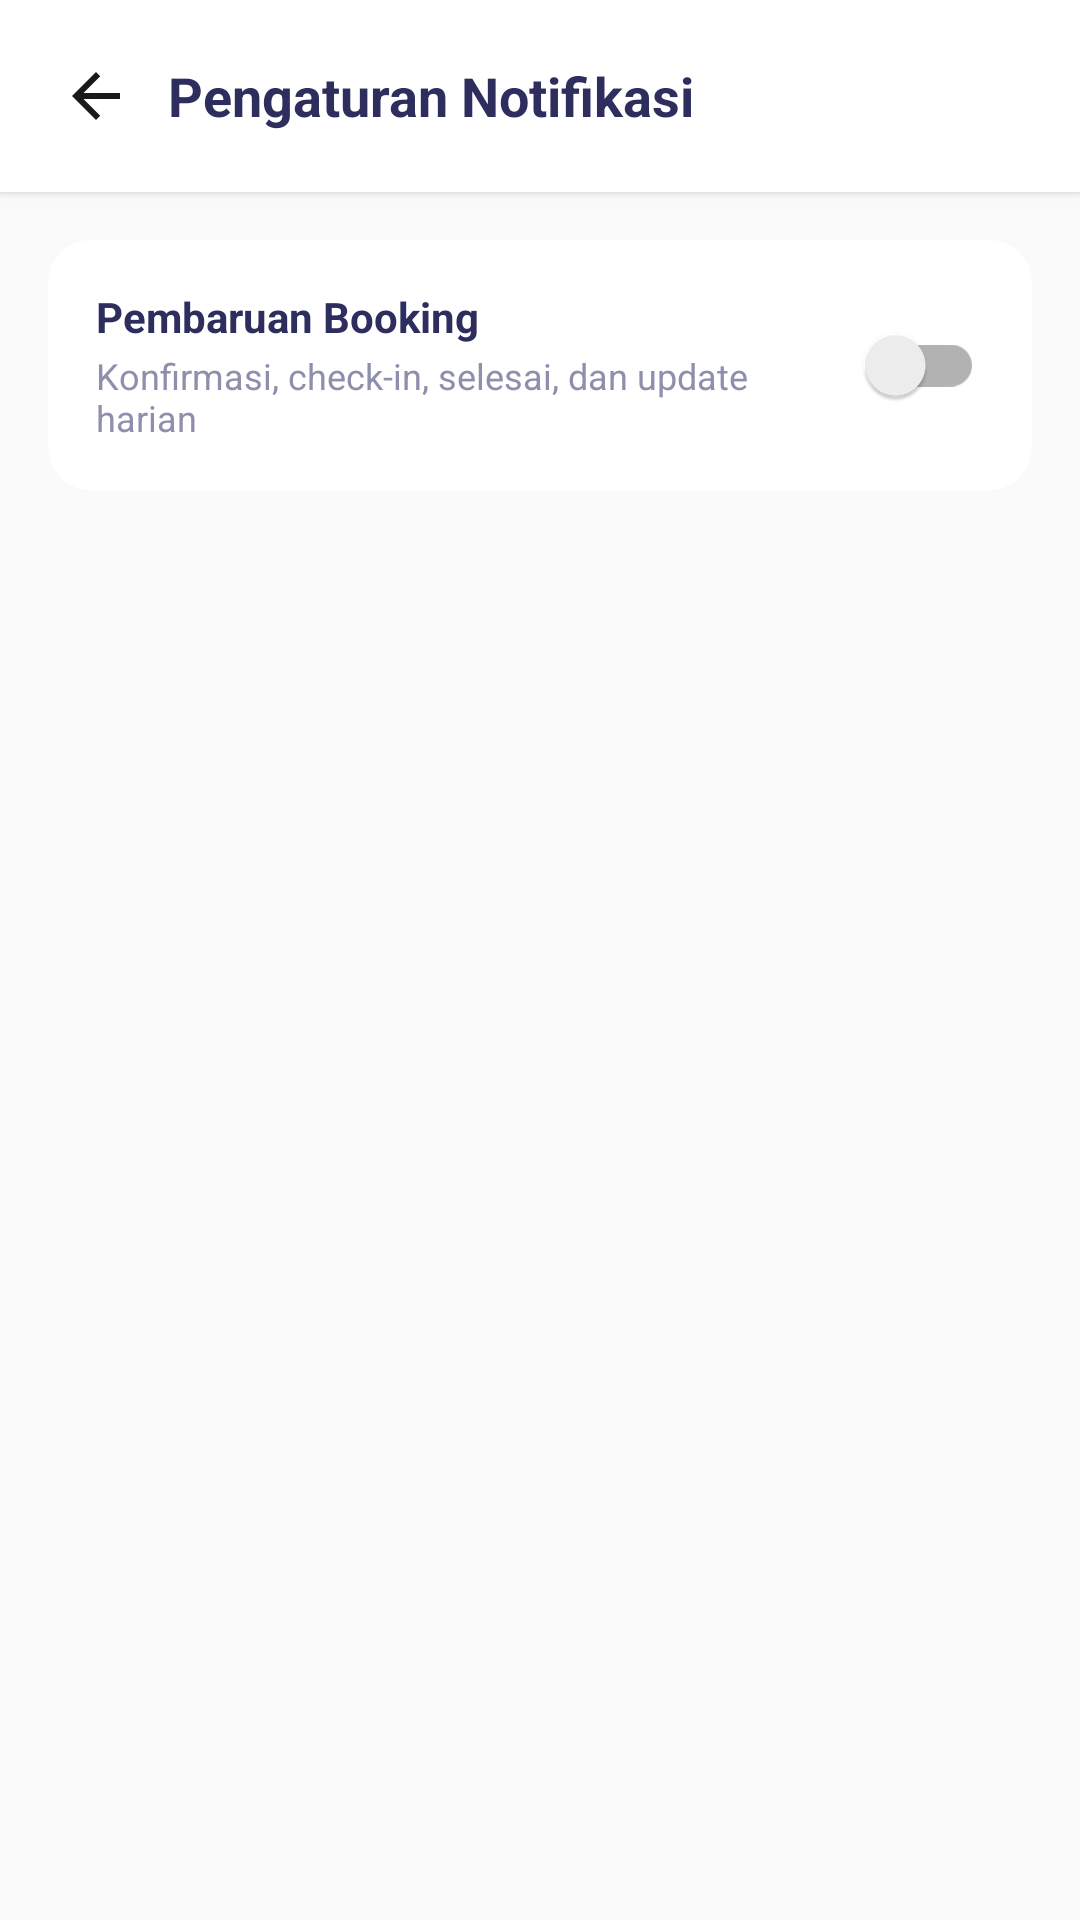

Where icons sit on this 1080×1920 app screen, as (x1, y1, x2, y2):
Kembali: (72, 72, 120, 120)
